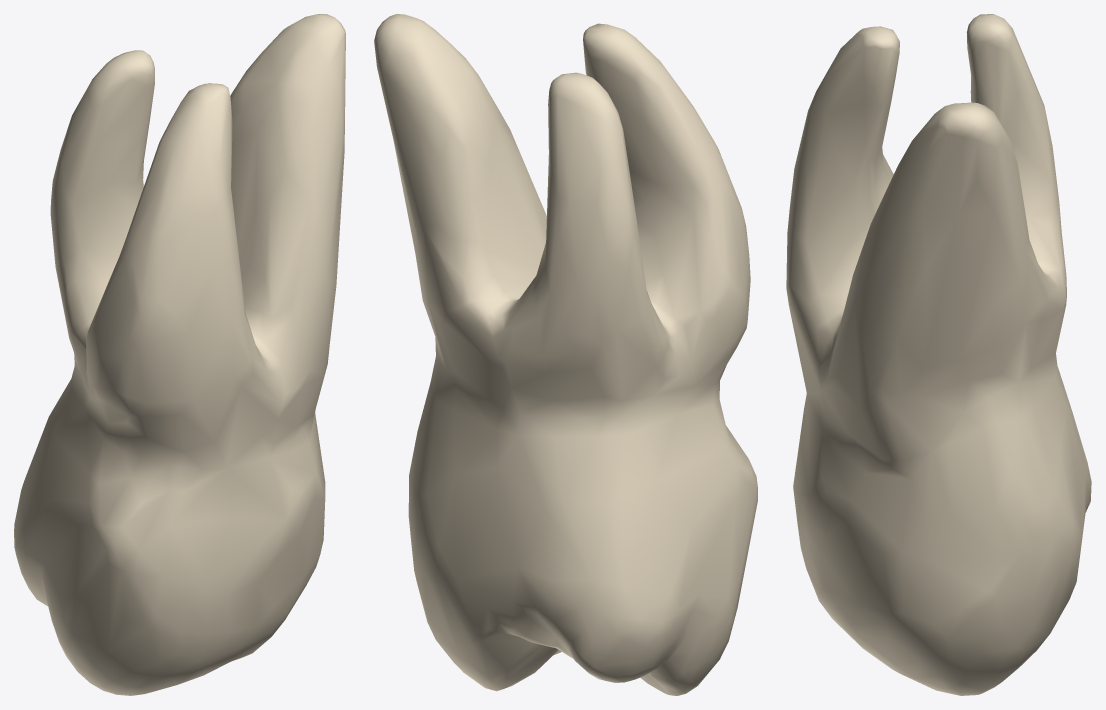
Rendered from upper-second-molar-tooth-r.glb.
3 views of the same model, side by side, from view 1: azimuth 30°, elevation 25°; view 2: azimuth 150°, elevation 25°; view 3: azimuth 270°, elevation 25° (orthographic). The views are drawn at different scales.
Visible parts, largest first — view 1: Upper second molar tooth.r; view 2: Upper second molar tooth.r; view 3: Upper second molar tooth.r.
Boxes of the visible parts, box(x1,y1,x2,y2) form: Upper second molar tooth.r: box(14, 14, 345, 695); Upper second molar tooth.r: box(374, 14, 757, 695); Upper second molar tooth.r: box(786, 14, 1091, 695).
Size of the model in its own units: 0.0116 by 0.0221 by 0.00961.
